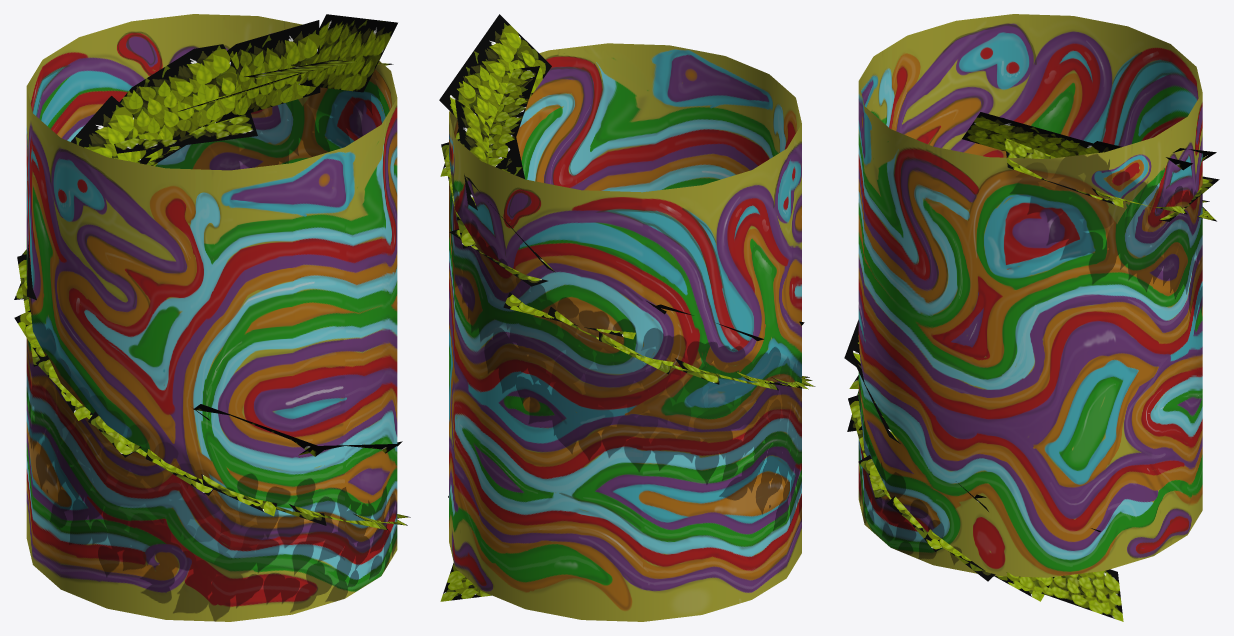
File: tunnel.dae
The picture shows the model from 3 angles, left to right: view 1: azimuth 30°, elevation 25°; view 2: azimuth 150°, elevation 25°; view 3: azimuth 270°, elevation 25°; orthographic projection. The views are drawn at different scales.
Parts seen in each view (by area): view 1: Cylinder001, Plane148, Plane149, Plane150, Plane147, Plane029, Plane019, Plane032, Plane030, Plane022, Plane020, Plane027 (+1 smaller); view 2: Cylinder001, Plane150, Plane020, Plane149, Plane024, Plane153, Plane031, Plane033, Plane023; view 3: Cylinder001, Plane150, Plane153, Plane020, Plane018, Plane034, Plane025, Plane021.
Boxes of the visible parts, bbox=[...] form: Cylinder001: bbox=[26, 14, 397, 621]; Plane148: bbox=[119, 44, 237, 162]; Plane149: bbox=[203, 20, 320, 126]; Plane150: bbox=[297, 14, 397, 92]; Plane147: bbox=[71, 96, 170, 166]; Plane029: bbox=[114, 113, 257, 153]; Plane019: bbox=[14, 310, 92, 420]; Plane032: bbox=[36, 355, 141, 457]; Plane030: bbox=[145, 449, 277, 516]; Plane022: bbox=[88, 411, 213, 495]; Plane020: bbox=[244, 60, 393, 77]; Plane027: bbox=[201, 474, 326, 525]; Cylinder001: bbox=[449, 43, 801, 621]; Plane150: bbox=[439, 14, 551, 132]; Plane020: bbox=[440, 66, 539, 176]; Plane149: bbox=[455, 99, 488, 210]; Plane024: bbox=[441, 137, 524, 248]; Plane153: bbox=[440, 563, 491, 601]; Plane031: bbox=[503, 292, 635, 339]; Plane033: bbox=[548, 307, 673, 374]; Plane023: bbox=[599, 332, 719, 384]; Cylinder001: bbox=[858, 14, 1202, 577]; Plane150: bbox=[962, 112, 1105, 157]; Plane153: bbox=[1006, 569, 1123, 621]; Plane020: bbox=[1002, 117, 1123, 207]; Plane018: bbox=[925, 529, 1054, 601]; Plane034: bbox=[887, 496, 995, 581]; Plane025: bbox=[848, 395, 889, 498]; Plane021: bbox=[858, 455, 942, 551].
Size of the model in its own units: 1.49 by 1.53 by 2.33.
